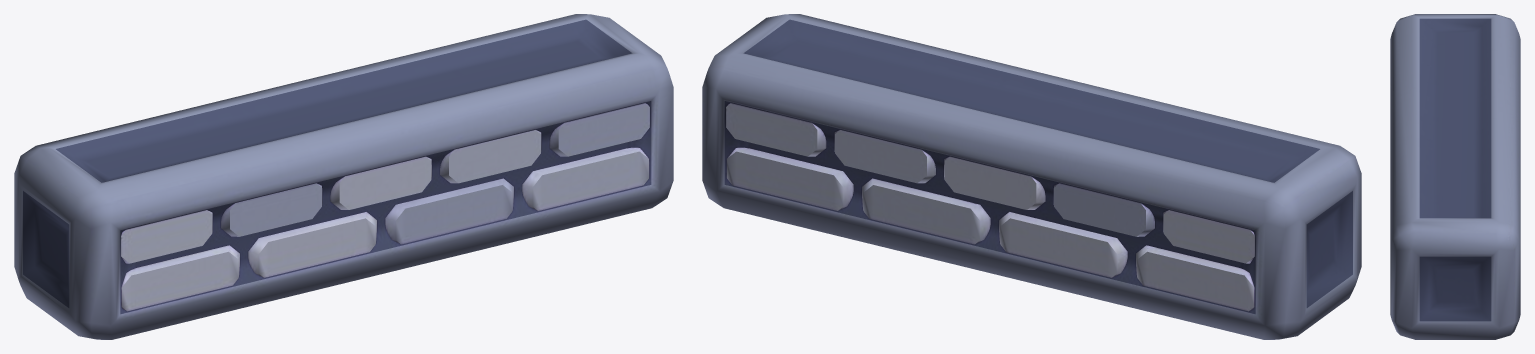
File: tas4.glb
The picture shows the model from 3 angles, left to right: view 1: azimuth 30°, elevation 25°; view 2: azimuth 150°, elevation 25°; view 3: azimuth 270°, elevation 25°; orthographic projection. The views are drawn at different scales.
Visible parts, largest first — view 1: tas4; view 2: tas4; view 3: tas4.
Boxes of the visible parts, x1,y1,x2,y2 form: tas4: [14, 14, 673, 339]; tas4: [702, 14, 1361, 339]; tas4: [1390, 14, 1520, 339].
Size of the model in its own units: 6.14 by 1.51 by 1.51.
1 material, 1 textured.
